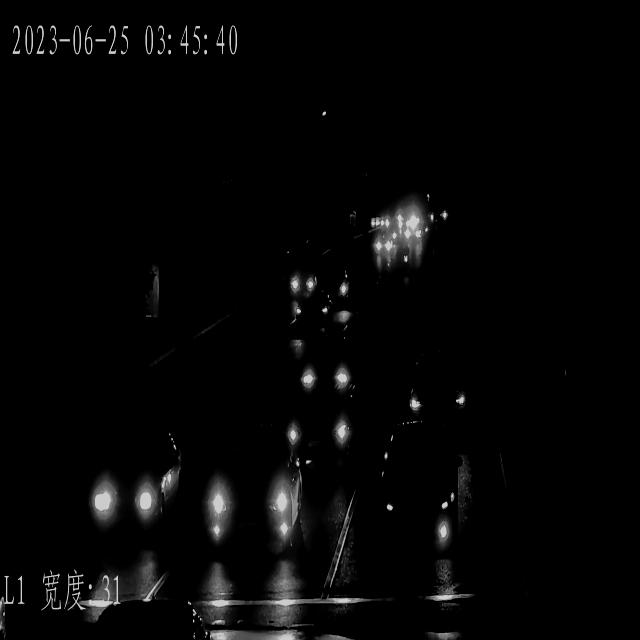Car: (72, 427, 178, 539), (197, 441, 301, 551), (368, 427, 460, 551), (398, 356, 473, 435), (282, 394, 352, 455), (92, 604, 208, 640), (295, 340, 358, 402), (310, 264, 352, 306), (290, 288, 332, 329), (284, 264, 320, 298), (371, 234, 397, 257), (370, 211, 392, 225), (402, 221, 421, 236)
